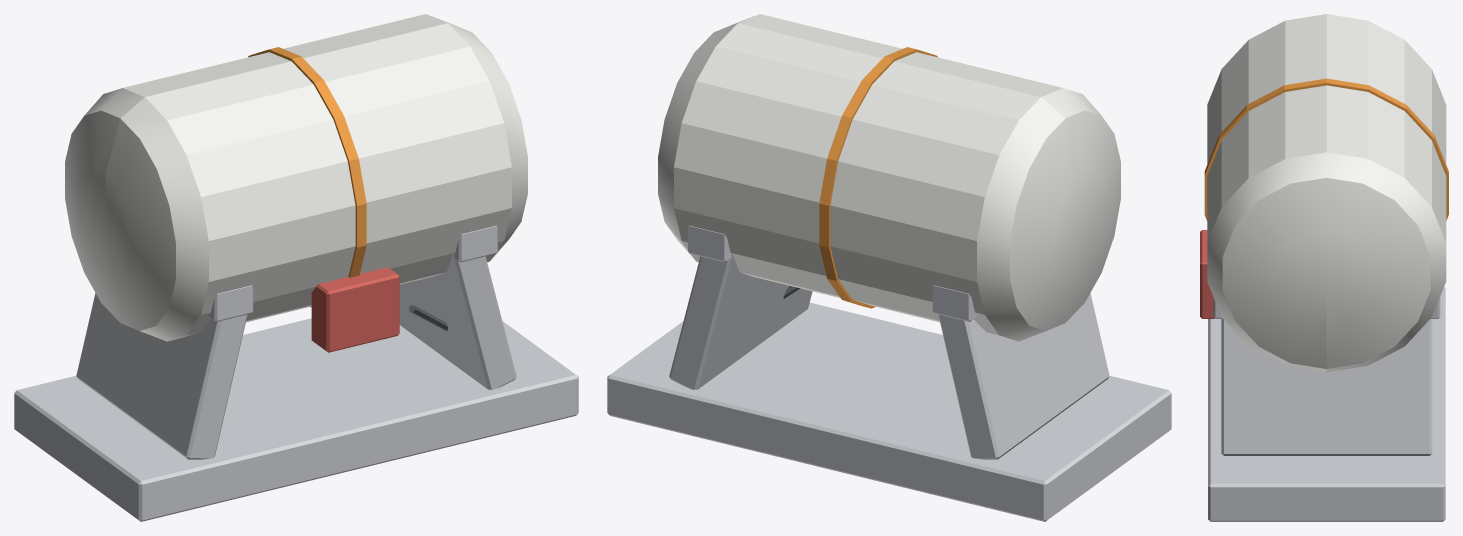
3 views of the same model, side by side, from view 1: azimuth 30°, elevation 25°; view 2: azimuth 150°, elevation 25°; view 3: azimuth 270°, elevation 25° (orthographic). The views are drawn at different scales.
Parts seen in each view (by area): view 1: liferaft-canister; view 2: liferaft-canister; view 3: liferaft-canister.
Boxes of the visible parts, x1,y1,x2,y2 form: liferaft-canister: [14, 14, 578, 521]; liferaft-canister: [607, 14, 1171, 521]; liferaft-canister: [1200, 14, 1448, 521].
Bounding box in the file's own units: 1.8 × 1.43 × 0.9429.
